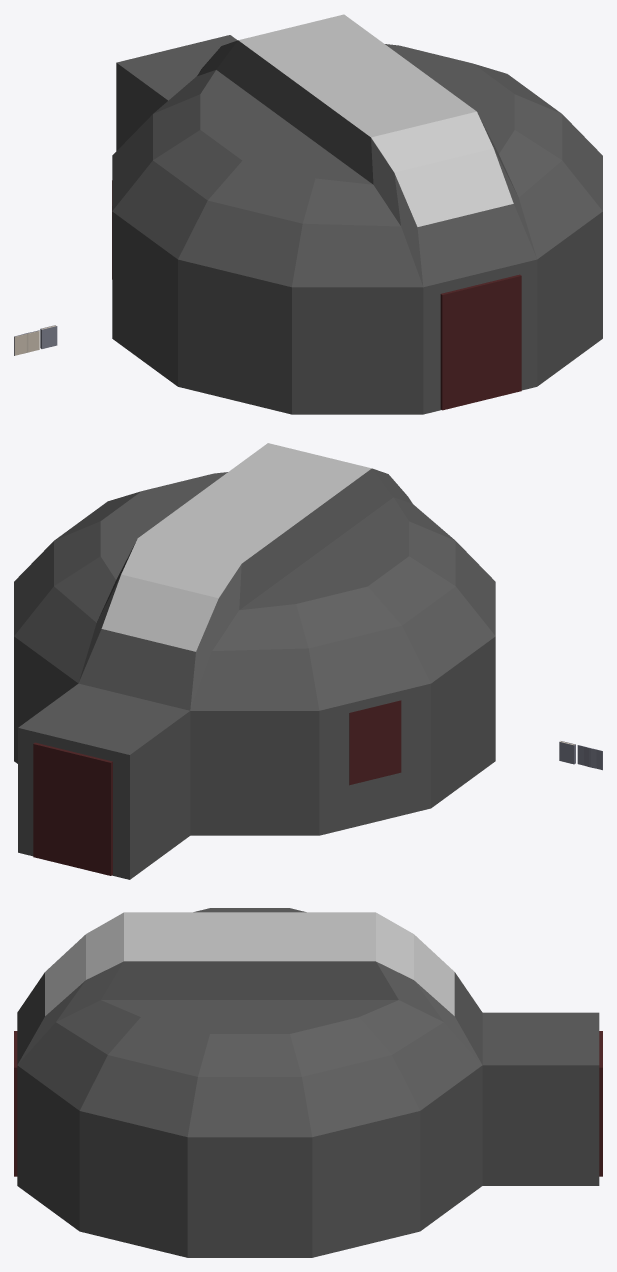
The model's file is Комната2.fbx.
3 renders of one model, top to bottom at view 1: azimuth 30°, elevation 25°; view 2: azimuth 150°, elevation 25°; view 3: azimuth 270°, elevation 25°, orthographic. The views are drawn at different scales.
Parts seen in each view (by area): view 1: Cylinder, Cylinder.001, Cylinder.002, Cylinder.004; view 2: Cylinder, Cylinder.002, Cylinder.001, Cylinder.003, Cube.042; view 3: Cylinder, Cylinder.002, Cylinder.001, Cylinder.003, Cylinder.004.
Part boxes in pixels (<box>): Cylinder: <box>112,35,602,414</box>; Cylinder.001: <box>291,14,513,215</box>; Cylinder.002: <box>238,27,465,226</box>; Cylinder.004: <box>440,274,521,410</box>; Cylinder: <box>14,468,495,879</box>; Cylinder.002: <box>149,455,371,651</box>; Cylinder.001: <box>101,443,319,640</box>; Cylinder.003: <box>33,742,112,875</box>; Cube.042: <box>349,700,401,785</box>; Cylinder: <box>17,908,599,1257</box>; Cylinder.002: <box>45,912,454,993</box>; Cylinder.001: <box>45,937,454,1015</box>; Cylinder.003: <box>599,1031,602,1176</box>; Cylinder.004: <box>14,1031,17,1176</box>.
Bounding box in the file's own units: 2048 × 819 × 1962.
